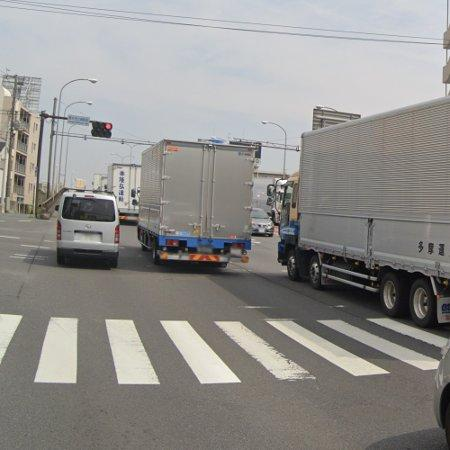crosswalks: (0, 315, 450, 389)
